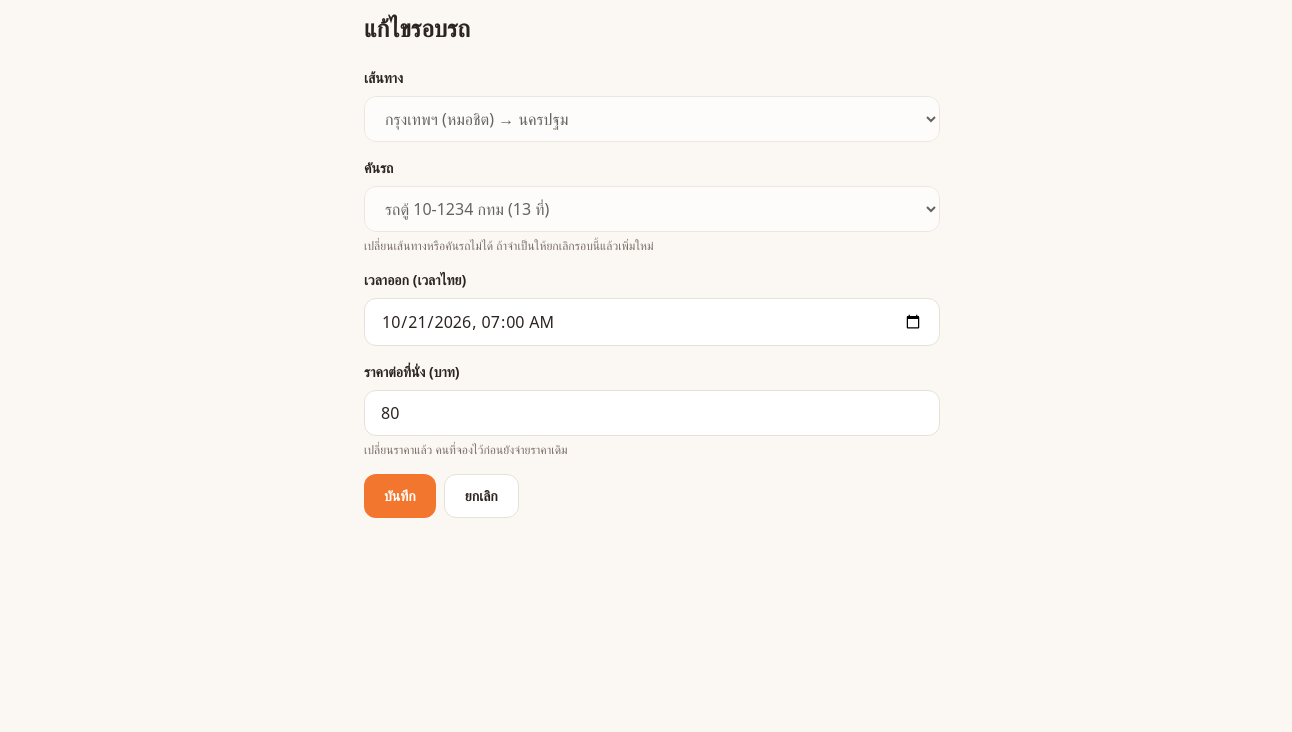
Test: แก้ไข: เติมค่าเดิมเป็นเวลาไทย ล็อกเส้นทาง/คันรถ และส่งแค่เวลากับราคา
The image size is (1292, 732).
Expected: the field labelled "เวลาออก (เวลาไทย)" holds "2026-10-21T07:00", [364, 298, 940, 346]
Expected: the dropdown labelled "เส้นทาง" is disabled, [364, 96, 940, 142]
Replace the text in the number field labelled "ราคาต่อที่นั่ง" with "90" at coordinates (652, 413), box [364, 390, 940, 436]
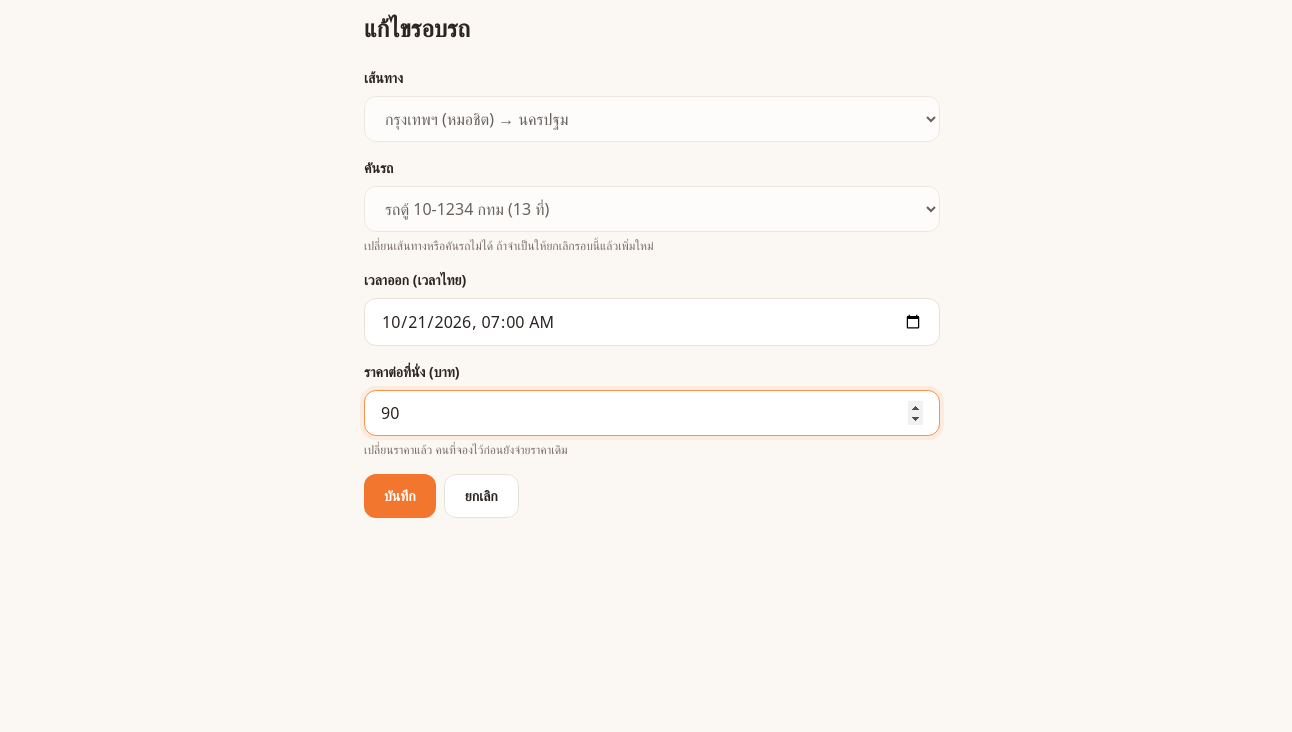
Click the button "บันทึก".
click(400, 496)  # box [364, 474, 436, 518]
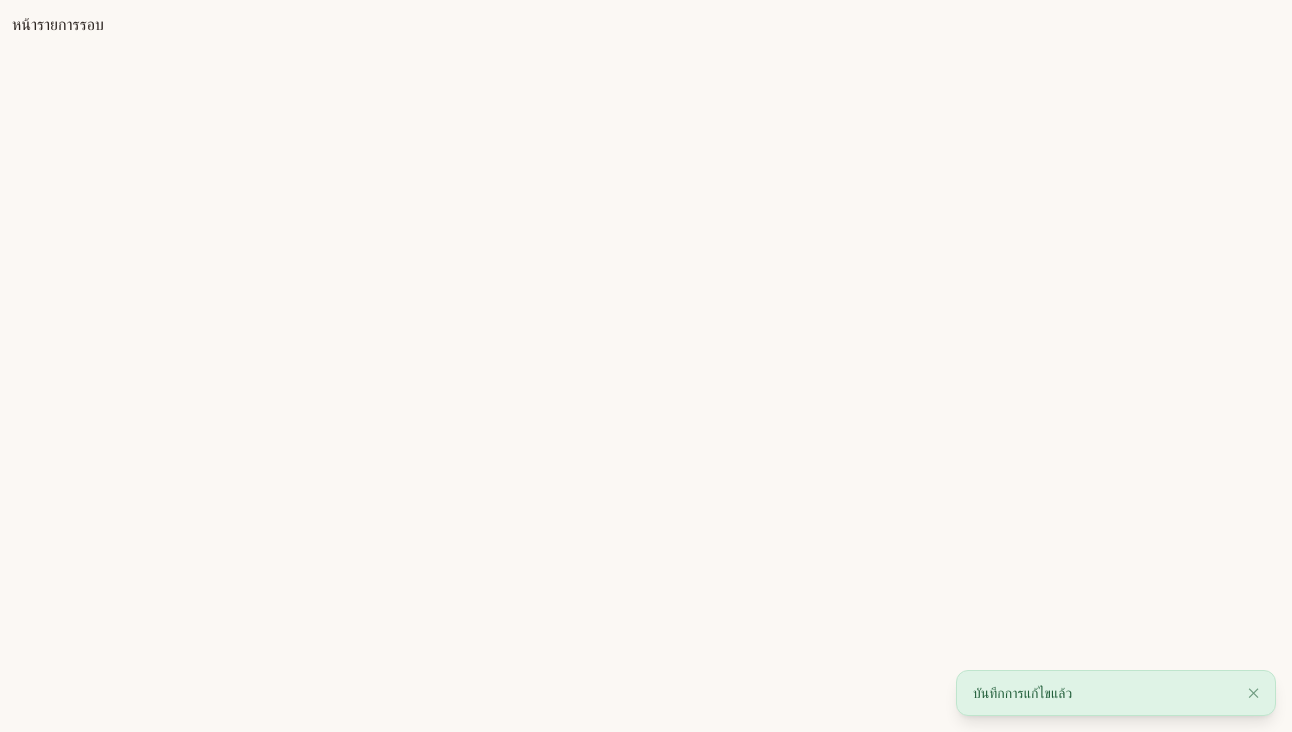
Result: the text "หน้ารายการรอบ" is shown at [12, 13, 104, 35]
